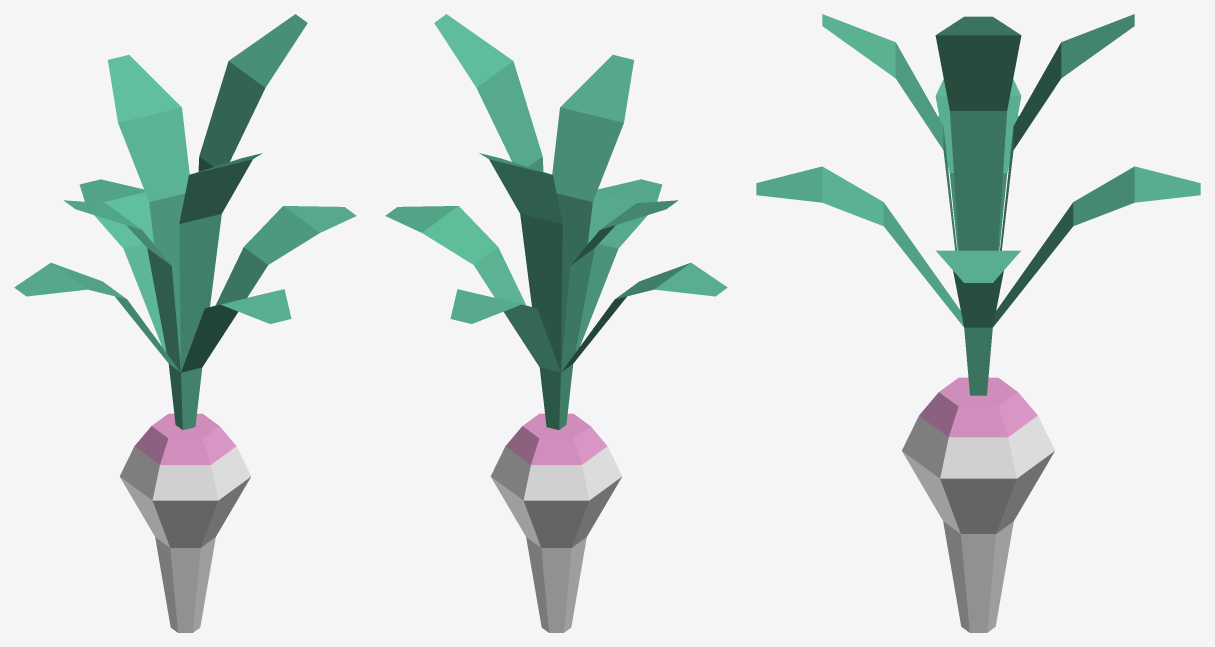
The model's file is radish.fbx.
3 renders of one model, left to right at view 1: azimuth 30°, elevation 25°; view 2: azimuth 150°, elevation 25°; view 3: azimuth 270°, elevation 25°, orthographic. The views are drawn at different scales.
Parts seen in each view (by area): view 1: radish; view 2: radish; view 3: radish.
Boxes of the visible parts, x1,y1,x2,y2 form: radish: (14, 14, 356, 632); radish: (385, 14, 727, 632); radish: (756, 14, 1200, 632).
Size of the model in its own units: 3.43 by 5.76 by 3.43.
